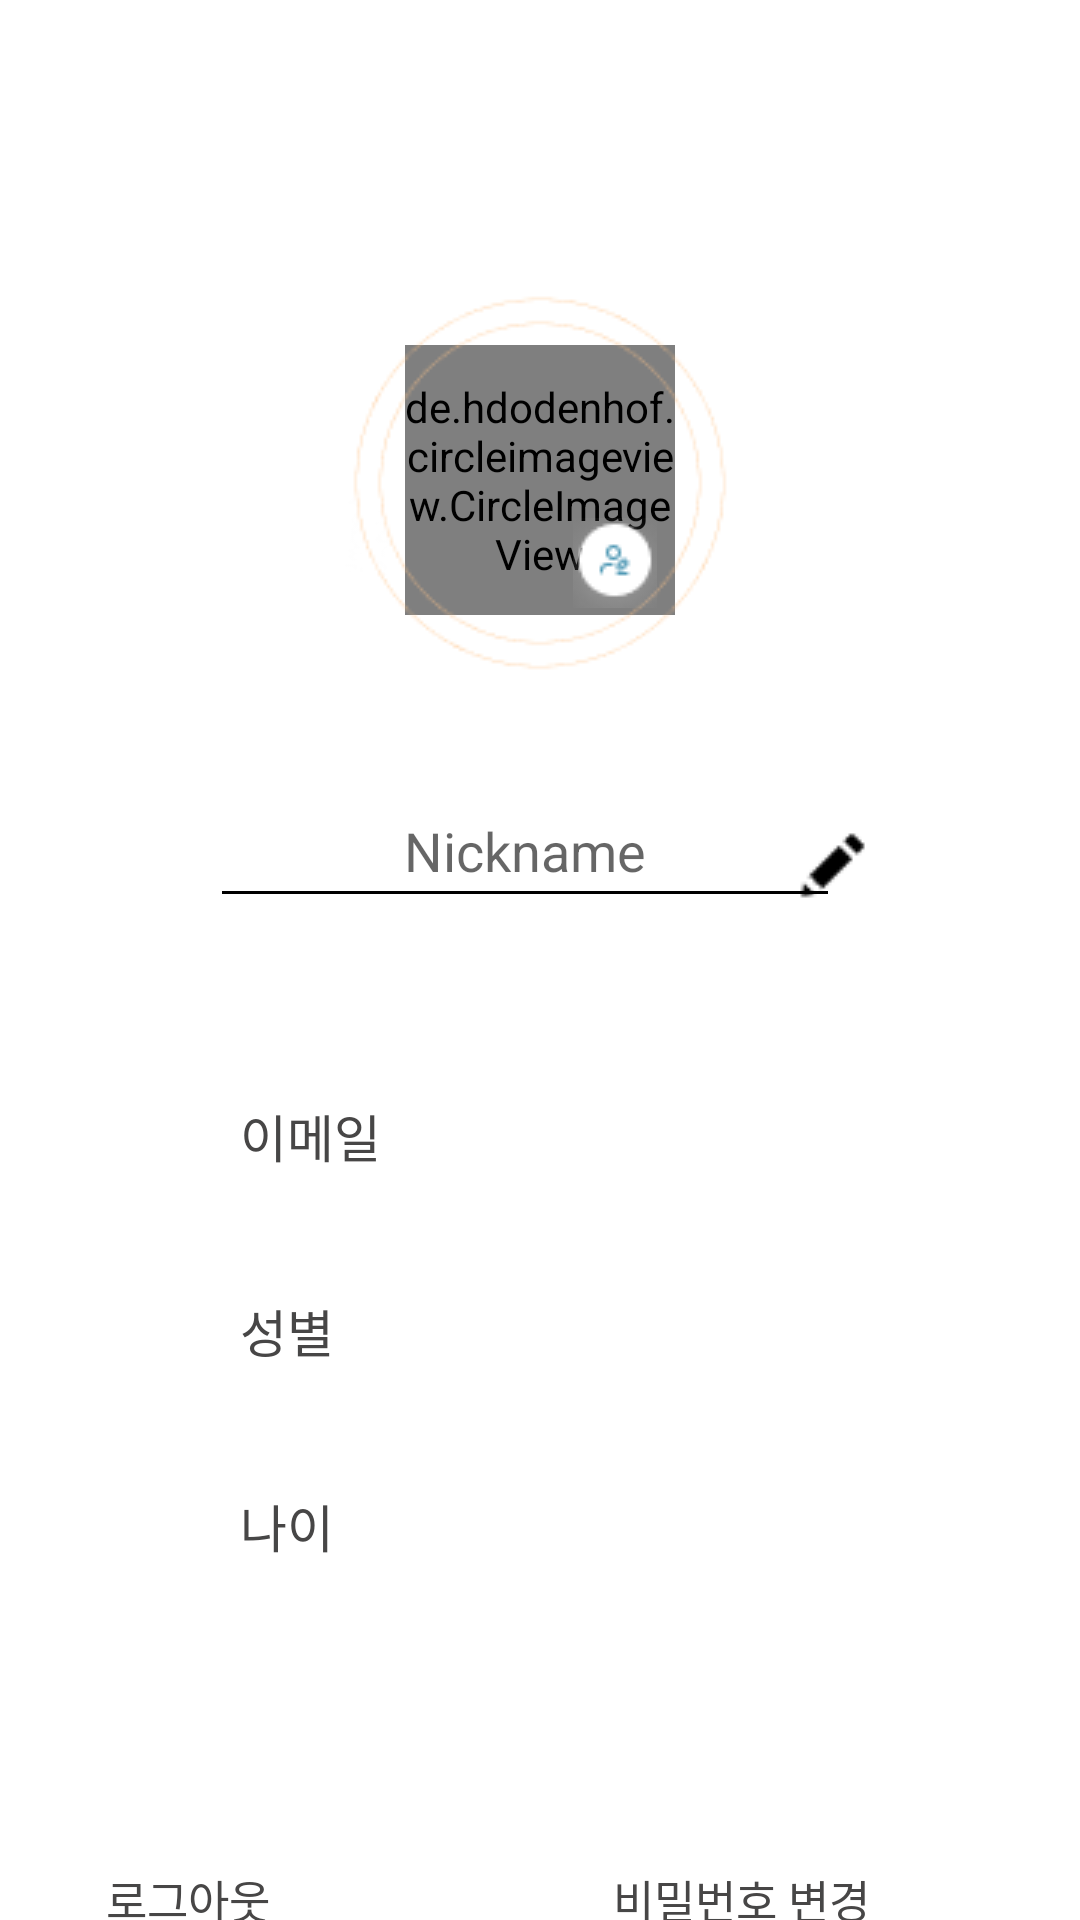

Locate icon controls on the screen. Image size 1080*1920, boxes as (x1,y1,x2,y2).
pencil: (808,833,865,890)
